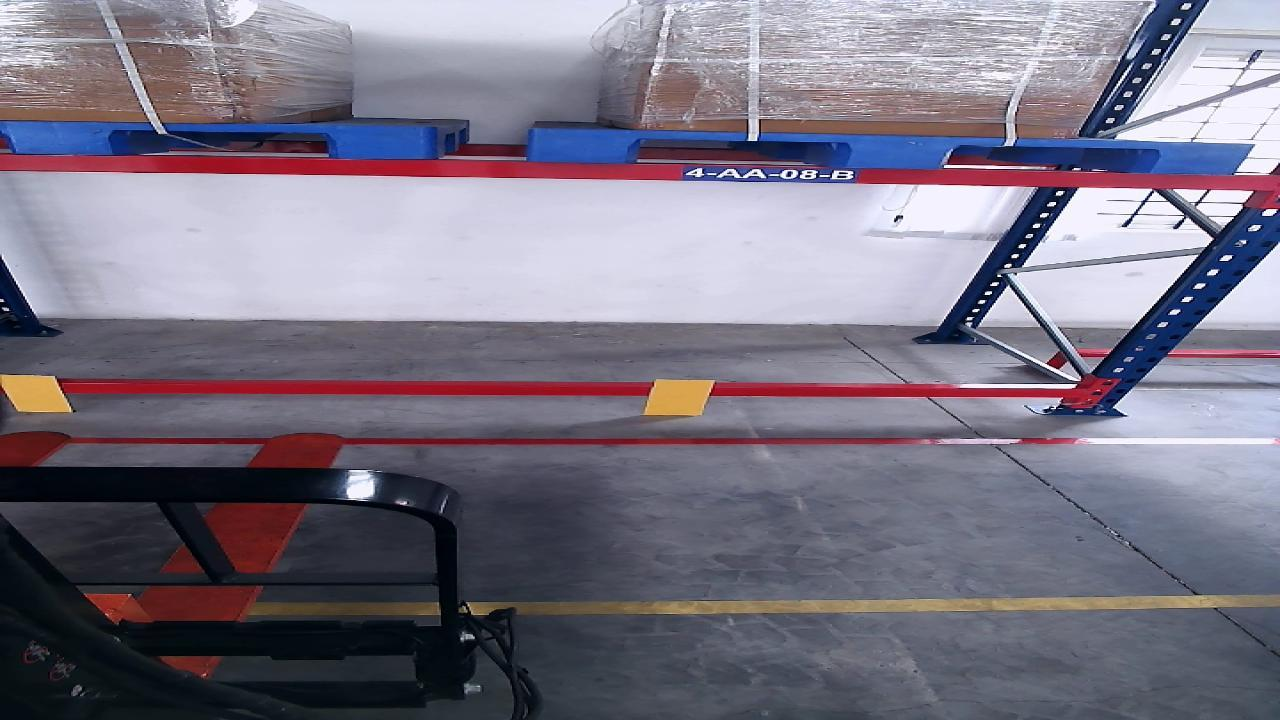h_rack: (4, 154, 1268, 190), (60, 383, 1072, 398)
orange_strip: (642, 379, 716, 416), (2, 374, 68, 412)
red_line: (74, 437, 1272, 444)
small_pallet: (529, 129, 1248, 174), (1, 122, 421, 158)
yellow_line: (257, 593, 1277, 614)
